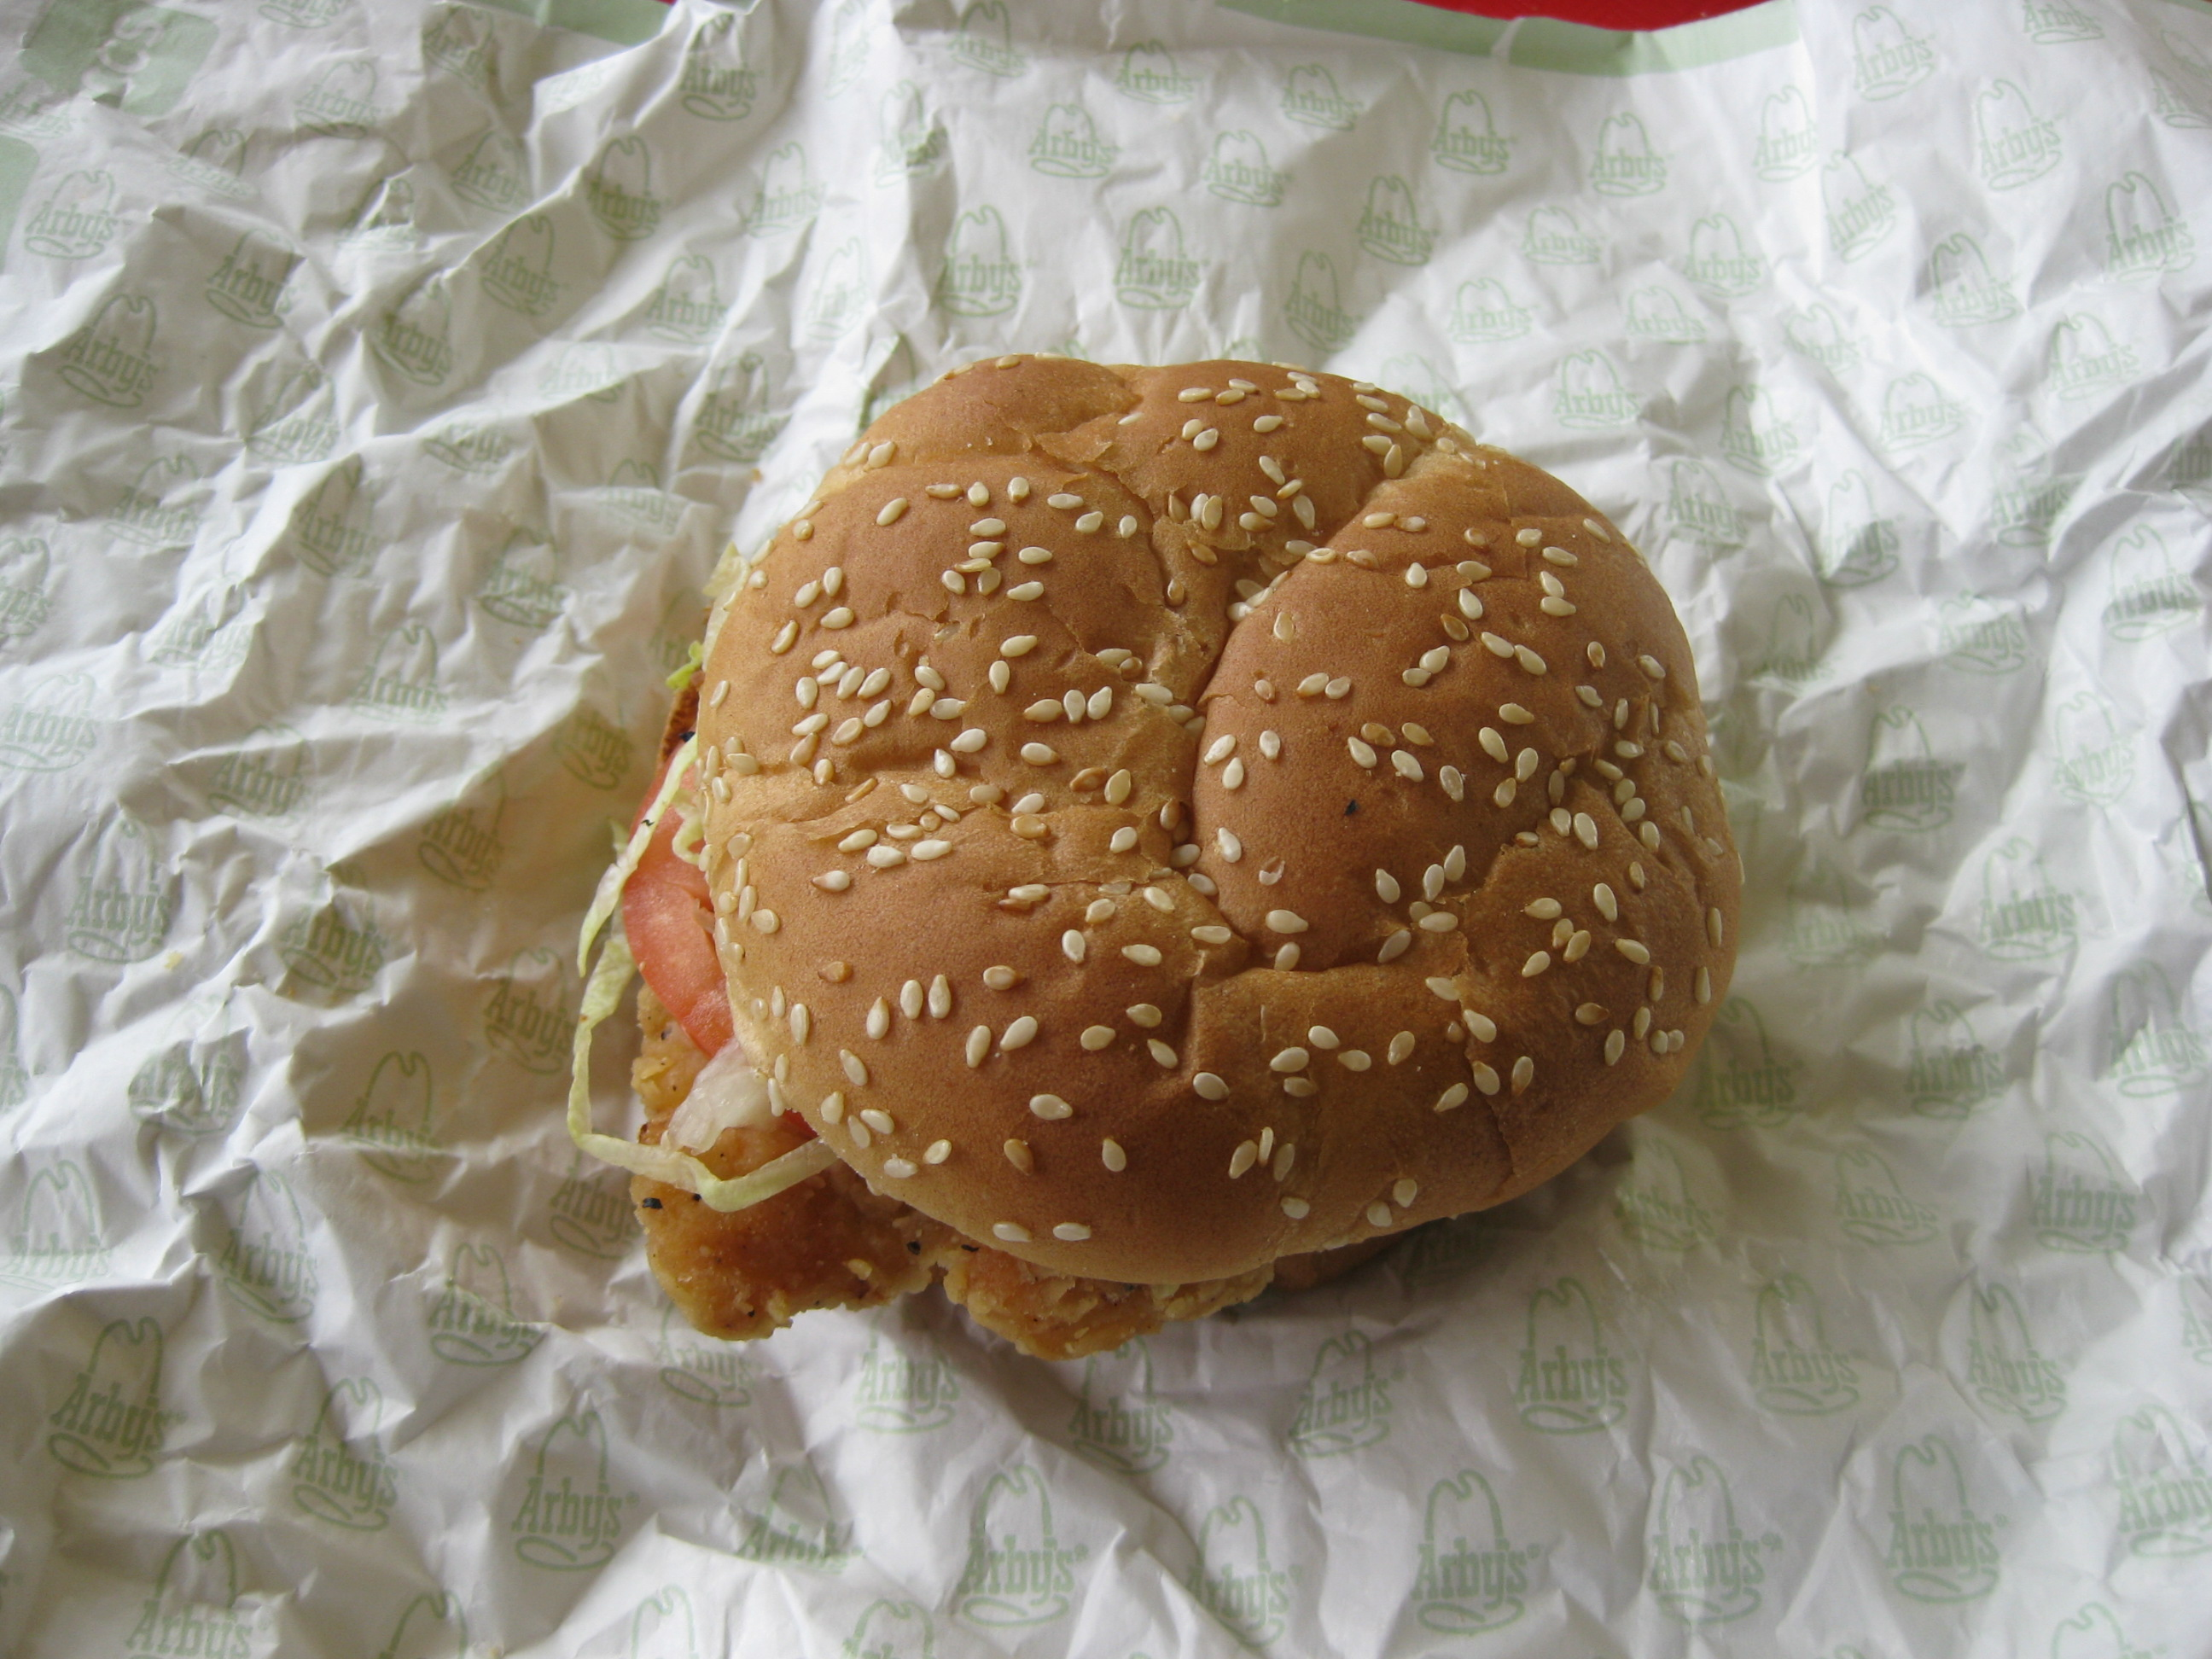burger: (511, 296, 1834, 1418)
